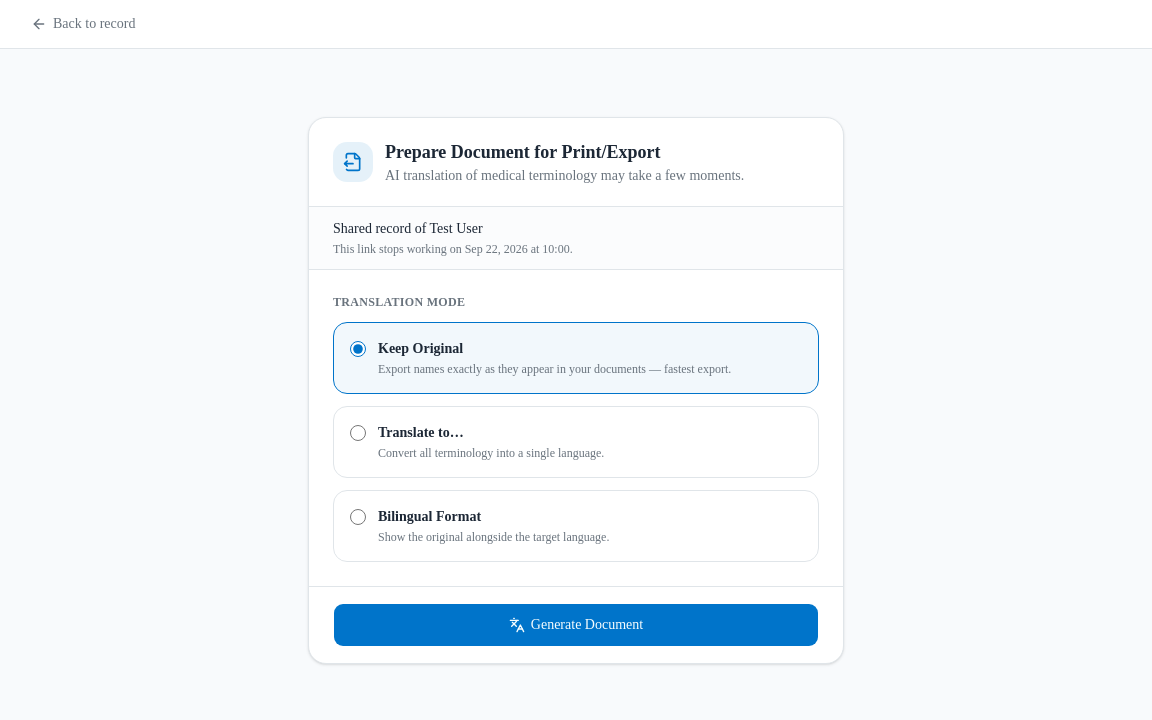
Test: SharedPrintFlow budget › blocks on the spent budget with a message instead of an English document
The width and height of the screenshot is (1152, 720).
Click the 2nd radio button: coordinates (358, 433) [350,425,366,441]
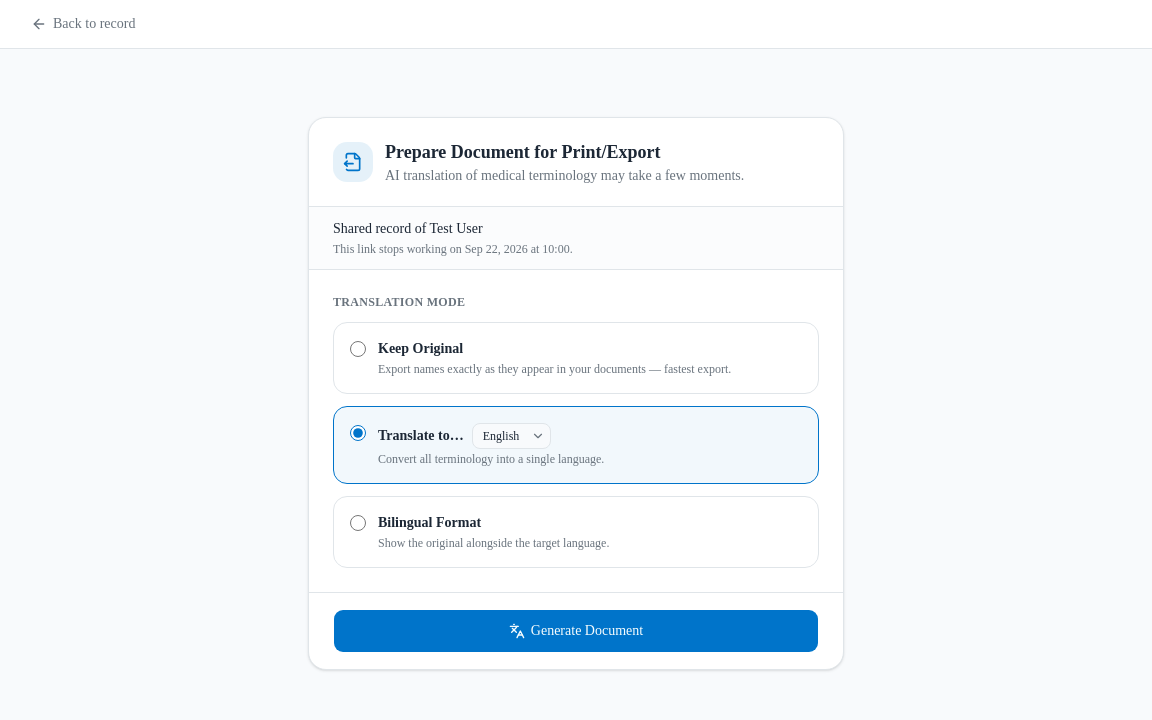
Select "German" in the dropdown: coordinates (511, 436) [472,423,551,449]
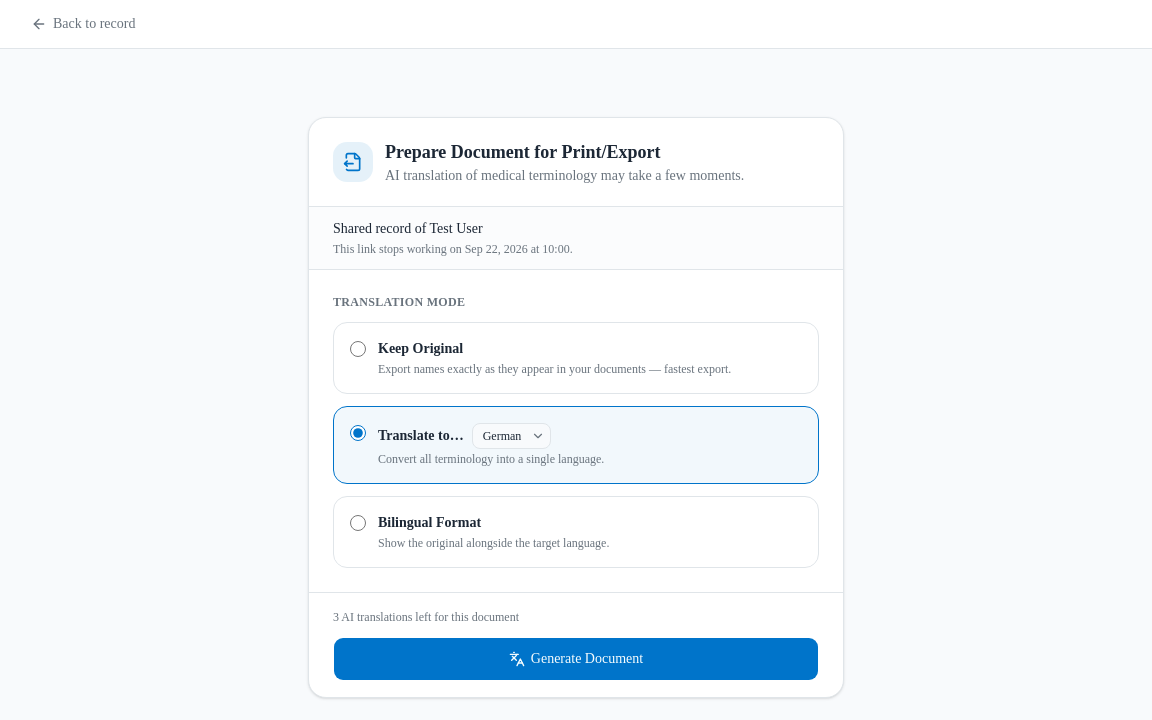
Click the button "Generate Document": coordinates (576, 659) [333,637,819,681]
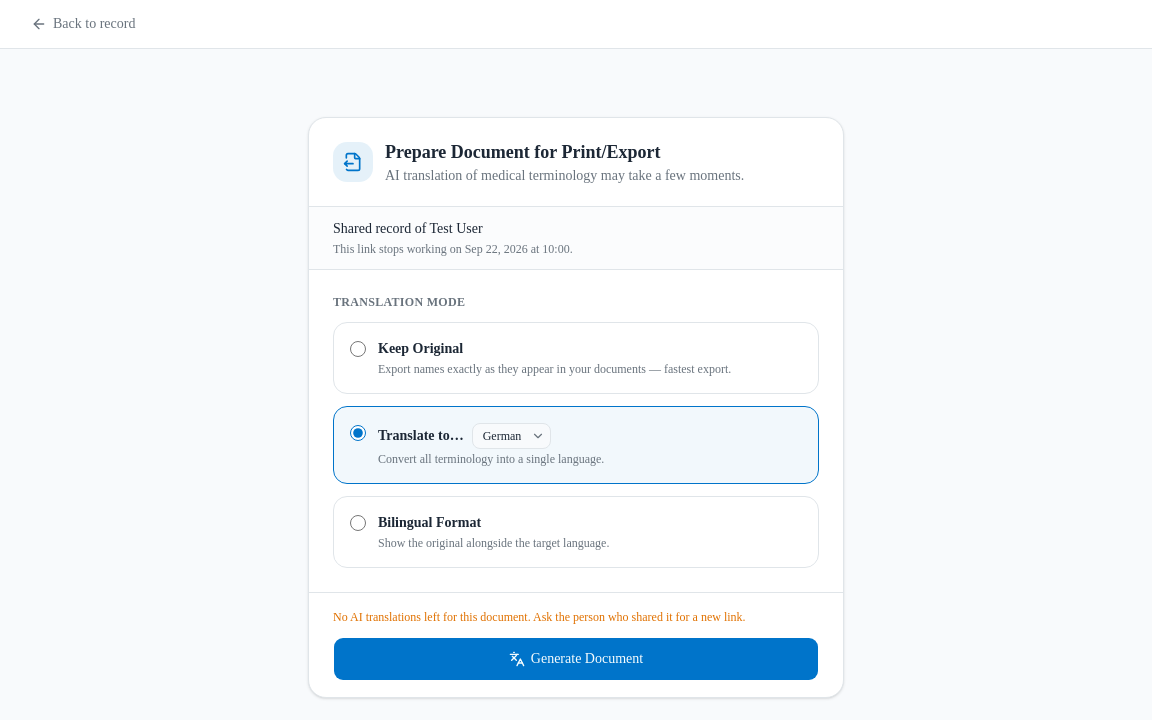
Result: the message with test id "print-translation-budget" shows "No AI translations left for this document" at [333,610,746,624]
